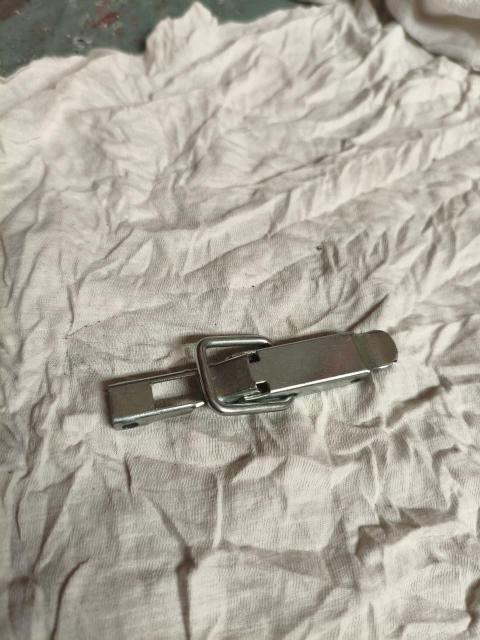Metal: (103, 328, 400, 428)
